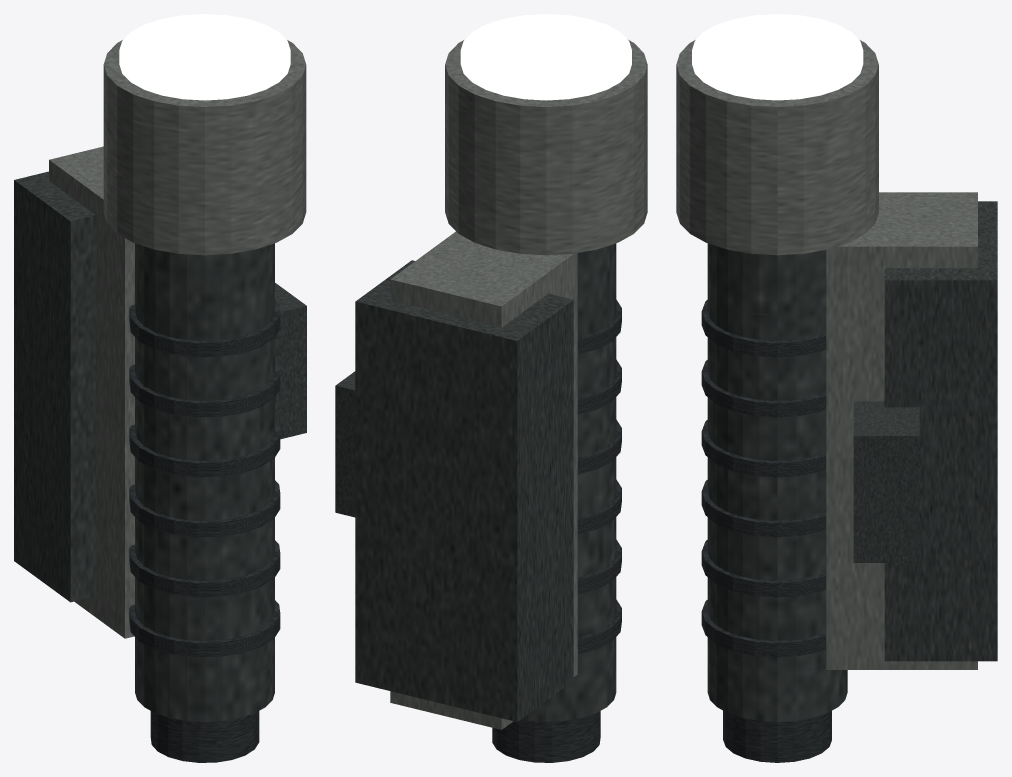
The model's file is PZ_MorrowTrail35_Flashlight_QuickRelease.glb.
The picture shows the model from 3 angles, left to right: view 1: azimuth 30°, elevation 25°; view 2: azimuth 150°, elevation 25°; view 3: azimuth 270°, elevation 25°; orthographic projection.
Parts seen in each view (by area): view 1: Flashlight_Anodized_Body, Flashlight_Head_Aluminium, Clamp_Back_Plate, Quick_Release_Rail, Flashlight_Front_Lens, Flashlight_Tail_Button, QuickRelease_Lock_Tab, Flashlight_Body_Grip_Ring_1, Flashlight_Body_Grip_Ring_3, Flashlight_Body_Grip_Ring_4, Flashlight_Body_Grip_Ring_6, Flashlight_Body_Grip_Ring_2 (+1 smaller); view 2: Clamp_Back_Plate, Flashlight_Head_Aluminium, Flashlight_Anodized_Body, Quick_Release_Rail, Flashlight_Front_Lens, Flashlight_Tail_Button, QuickRelease_Lock_Tab, Flashlight_Body_Grip_Ring_1, Flashlight_Body_Grip_Ring_2, Flashlight_Body_Grip_Ring_3, Flashlight_Body_Grip_Ring_4, Flashlight_Body_Grip_Ring_5 (+1 smaller); view 3: Flashlight_Anodized_Body, Clamp_Back_Plate, Flashlight_Head_Aluminium, Quick_Release_Rail, Flashlight_Front_Lens, QuickRelease_Lock_Tab, Flashlight_Tail_Button, Flashlight_Body_Grip_Ring_2, Flashlight_Body_Grip_Ring_5, Flashlight_Body_Grip_Ring_6, Flashlight_Body_Grip_Ring_1, Flashlight_Body_Grip_Ring_3 (+1 smaller).
Part boxes in pixels (left/top/right/bottom): Flashlight_Anodized_Body: left=135, top=243, right=274, bottom=721; Flashlight_Head_Aluminium: left=103, top=40, right=306, bottom=255; Clamp_Back_Plate: left=14, top=171, right=95, bottom=602; Quick_Release_Rail: left=49, top=146, right=134, bottom=638; Flashlight_Front_Lens: left=119, top=14, right=290, bottom=100; Flashlight_Tail_Button: left=150, top=711, right=259, bottom=762; QuickRelease_Lock_Tab: left=275, top=283, right=306, bottom=439; Flashlight_Body_Grip_Ring_1: left=129, top=600, right=280, bottom=657; Flashlight_Body_Grip_Ring_3: left=129, top=480, right=280, bottom=537; Flashlight_Body_Grip_Ring_4: left=129, top=420, right=280, bottom=477; Flashlight_Body_Grip_Ring_6: left=129, top=300, right=280, bottom=357; Flashlight_Body_Grip_Ring_2: left=129, top=540, right=280, bottom=597; Clamp_Back_Plate: left=355, top=260, right=573, bottom=721; Flashlight_Head_Aluminium: left=445, top=40, right=647, bottom=255; Flashlight_Anodized_Body: left=521, top=243, right=616, bottom=721; Quick_Release_Rail: left=390, top=231, right=577, bottom=729; Flashlight_Front_Lens: left=460, top=14, right=631, bottom=100; Flashlight_Tail_Button: left=492, top=711, right=600, bottom=762; QuickRelease_Lock_Tab: left=335, top=371, right=355, bottom=517; Flashlight_Body_Grip_Ring_1: left=577, top=599, right=621, bottom=654; Flashlight_Body_Grip_Ring_2: left=577, top=539, right=621, bottom=594; Flashlight_Body_Grip_Ring_3: left=577, top=479, right=621, bottom=534; Flashlight_Body_Grip_Ring_4: left=577, top=419, right=621, bottom=474; Flashlight_Body_Grip_Ring_5: left=577, top=359, right=621, bottom=414; Flashlight_Anodized_Body: left=707, top=243, right=847, bottom=721; Clamp_Back_Plate: left=884, top=201, right=997, bottom=661; Flashlight_Head_Aluminium: left=676, top=40, right=878, bottom=255; Quick_Release_Rail: left=826, top=192, right=977, bottom=669; Flashlight_Front_Lens: left=692, top=14, right=863, bottom=100; QuickRelease_Lock_Tab: left=853, top=401, right=919, bottom=562; Flashlight_Tail_Button: left=723, top=710, right=831, bottom=762; Flashlight_Body_Grip_Ring_2: left=701, top=540, right=826, bottom=597; Flashlight_Body_Grip_Ring_5: left=701, top=360, right=826, bottom=417; Flashlight_Body_Grip_Ring_6: left=701, top=300, right=826, bottom=357; Flashlight_Body_Grip_Ring_1: left=701, top=600, right=826, bottom=657; Flashlight_Body_Grip_Ring_3: left=701, top=480, right=826, bottom=537.
Bounding box in the file's own units: 0.0675 × 0.1955 × 0.0825.
Materials: 4 (4 with a texture image).
